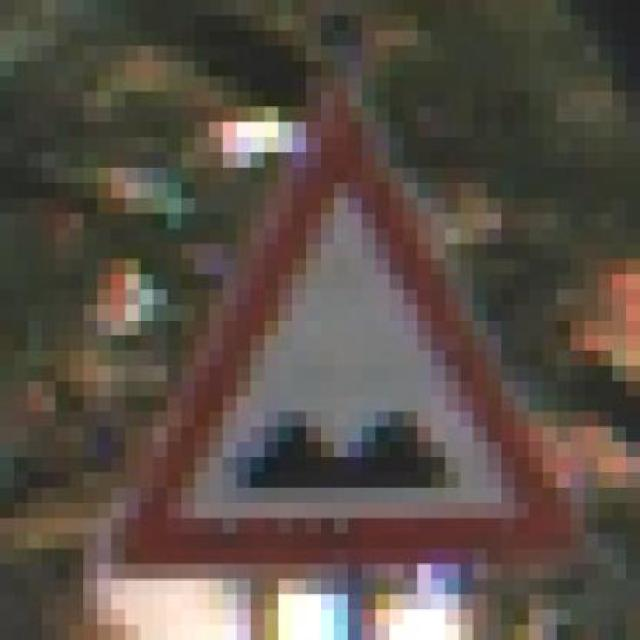Uneven Road: (102, 79, 589, 567)
